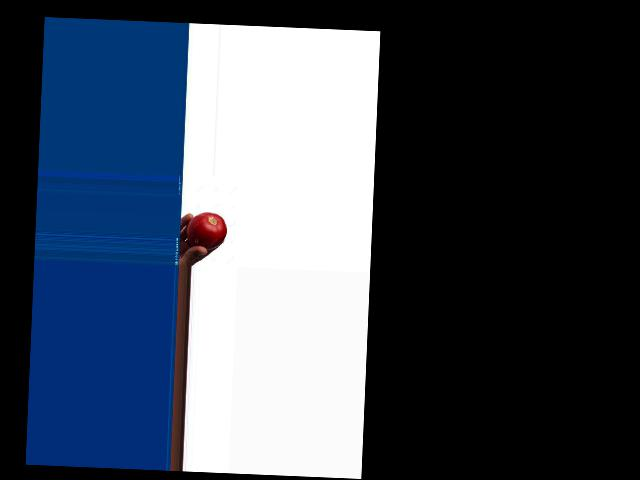tomato: (185, 211, 227, 250)
